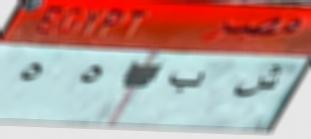5: (15, 57, 50, 89), (75, 57, 106, 89)
baa: (167, 66, 208, 103)
sheen: (231, 58, 282, 100)
